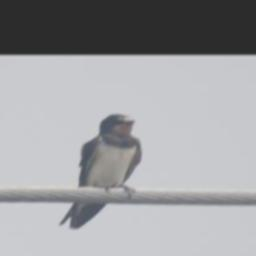Swallow: (58, 113, 142, 229)
